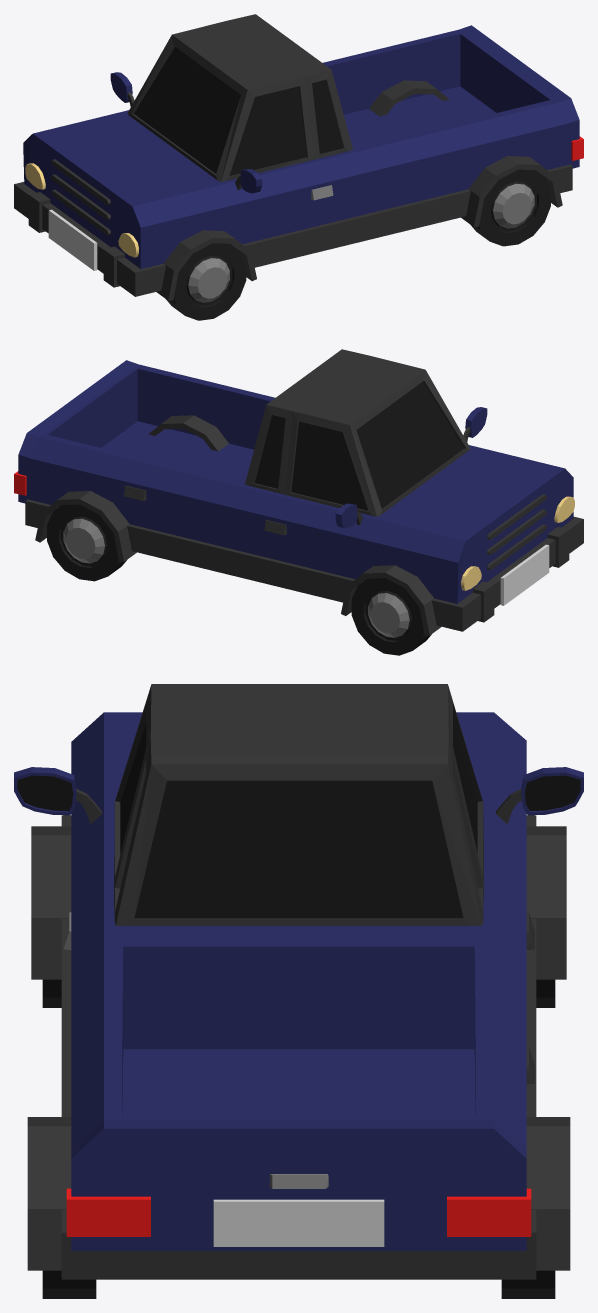
The model's file is SM_car_town_04.fbx.
3 renders of one model, top to bottom at view 1: azimuth 30°, elevation 25°; view 2: azimuth 150°, elevation 25°; view 3: azimuth 270°, elevation 25°, orthographic. The views are drawn at different scales.
Visible parts, largest first — view 1: Object145; view 2: Object145; view 3: Object145.
Boxes of the visible parts, x1,y1,x2,y2 form: Object145: (14, 14, 583, 320); Object145: (14, 349, 583, 655); Object145: (14, 684, 583, 1298).
Bounding box in the file's own units: 176 × 72.02 × 98.23.
